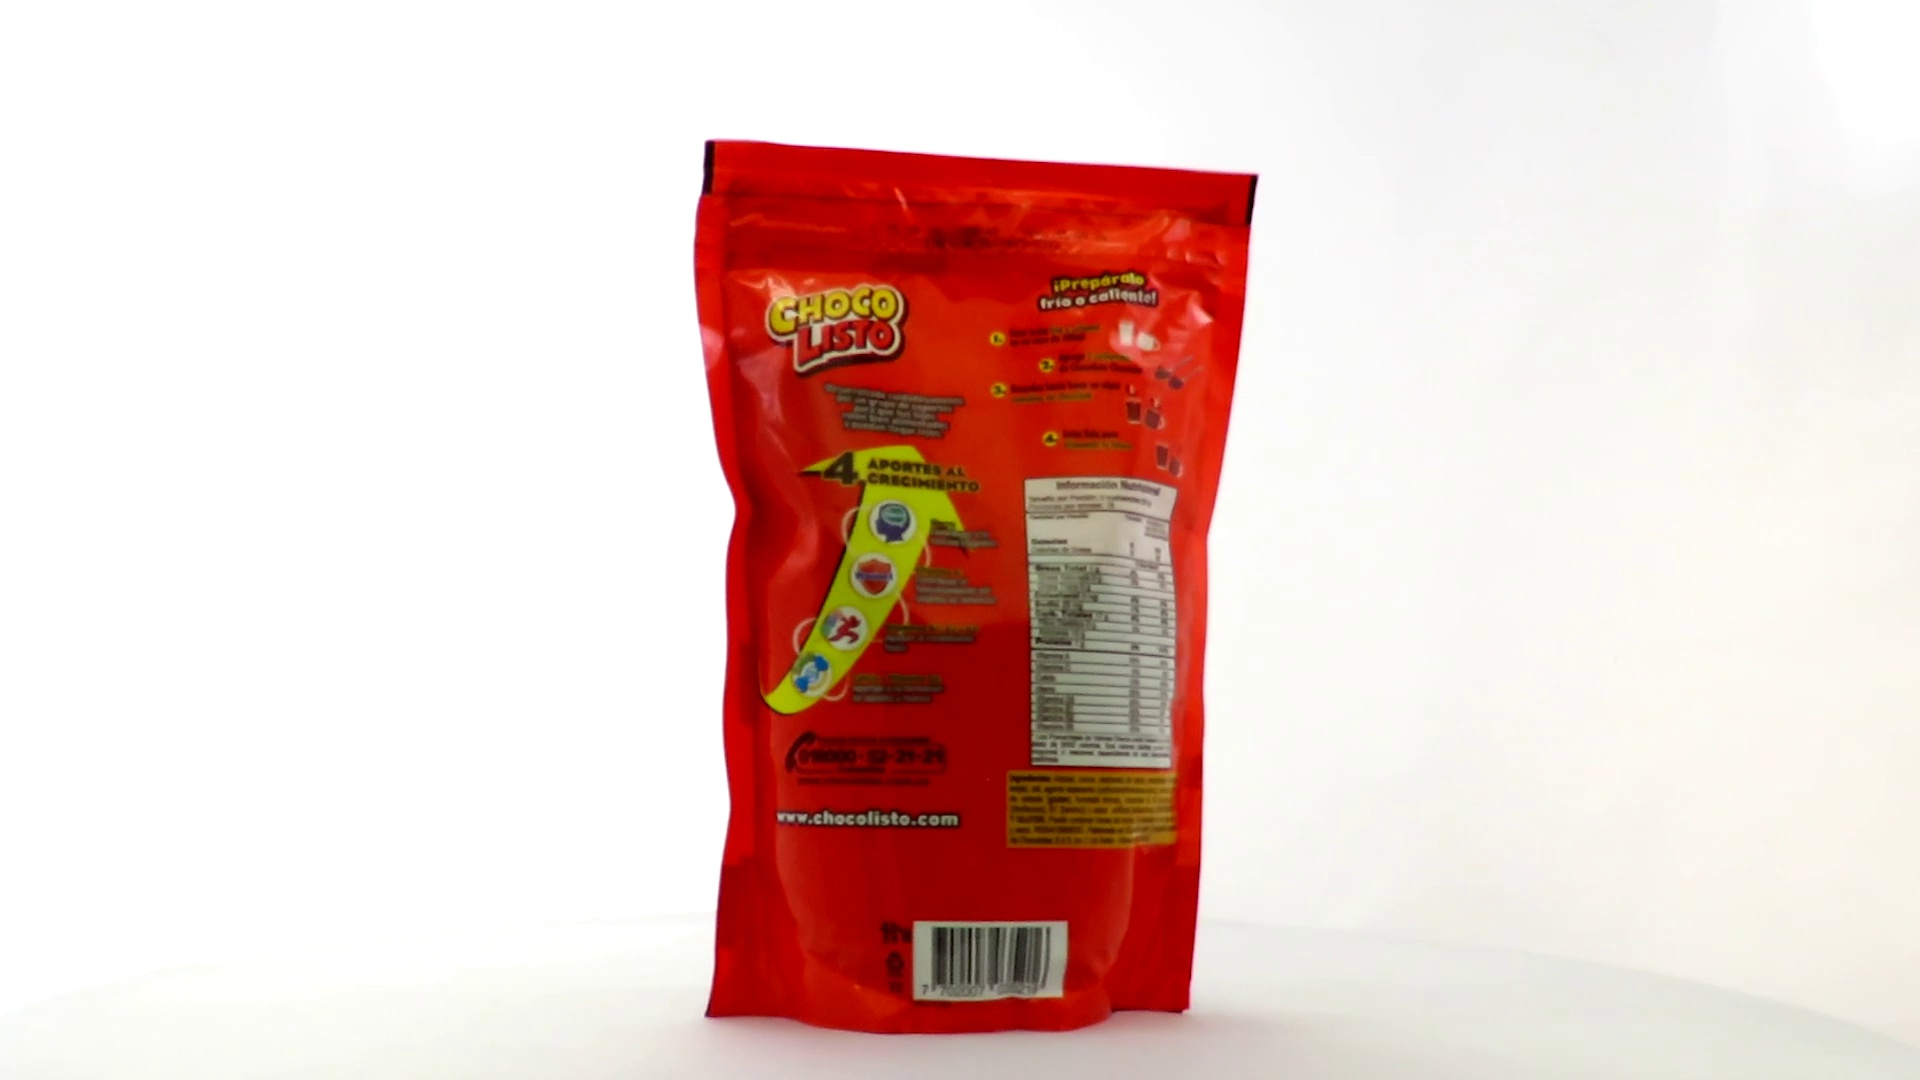COL0170103DYP36000: (688, 135, 1265, 1040)
